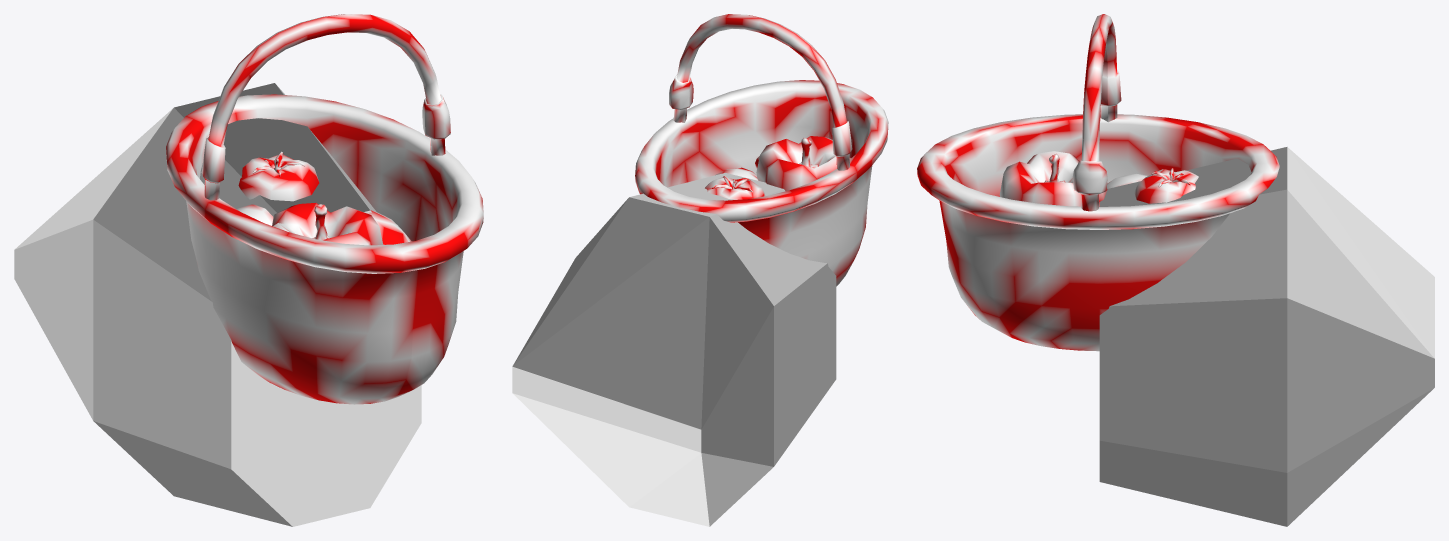
The model's file is SM_VegBasket01.fbx.
The picture shows the model from 3 angles, left to right: view 1: azimuth 30°, elevation 25°; view 2: azimuth 150°, elevation 25°; view 3: azimuth 270°, elevation 25°; orthographic projection. The views are drawn at different scales.
Parts seen in each view (by area): view 1: SM_VegBasket01_ConvexHulls, SM_VegBasket01_LOD0; view 2: SM_VegBasket01_ConvexHulls, SM_VegBasket01_LOD0; view 3: SM_VegBasket01_ConvexHulls, SM_VegBasket01_LOD0.
Part boxes in pixels (left/top/right/bottom): SM_VegBasket01_ConvexHulls: left=14, top=83, right=421, bottom=526; SM_VegBasket01_LOD0: left=166, top=14, right=483, bottom=404; SM_VegBasket01_ConvexHulls: left=512, top=173, right=836, bottom=526; SM_VegBasket01_LOD0: left=635, top=14, right=888, bottom=286; SM_VegBasket01_ConvexHulls: left=1099, top=147, right=1434, bottom=526; SM_VegBasket01_LOD0: left=917, top=14, right=1279, bottom=351.
Bounding box in the file's own units: 26.9 × 55.86 × 56.64.
